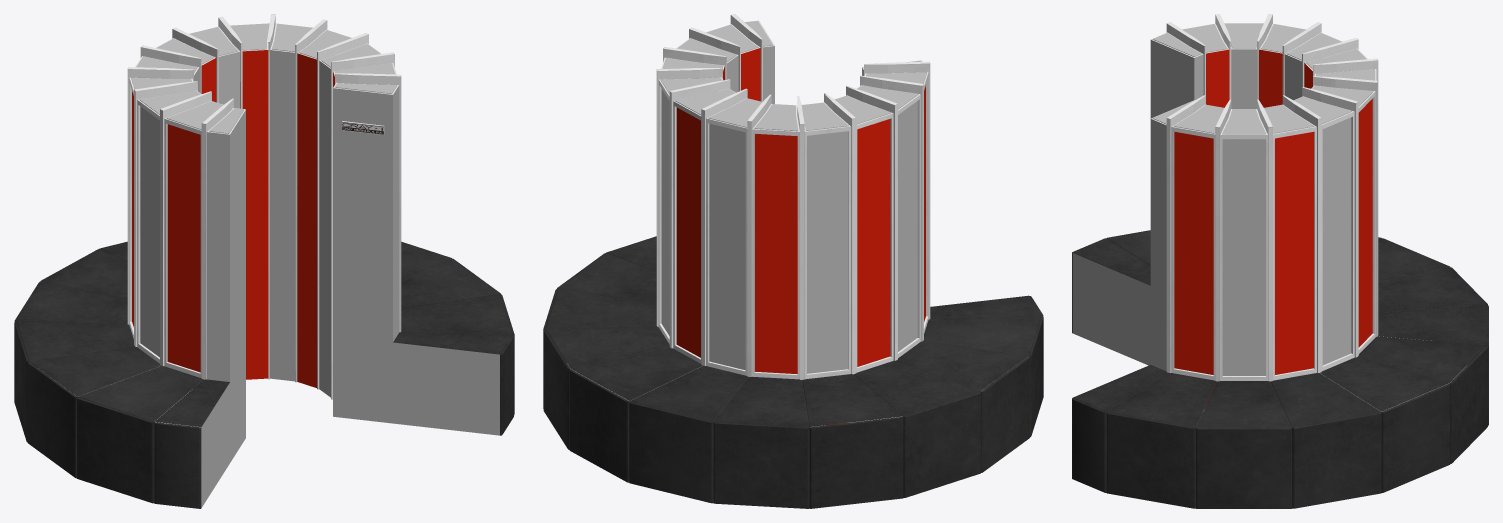
The model's file is cray1.fbx.
3 views of the same model, side by side, from view 1: azimuth 30°, elevation 25°; view 2: azimuth 150°, elevation 25°; view 3: azimuth 270°, elevation 25° (orthographic).
Parts seen in each view (by area): view 1: Cray_1.005; view 2: Cray_1.005; view 3: Cray_1.005.
Part boxes in pixels (x1,y1,x2,y2): Cray_1.005: (14, 14, 514, 508); Cray_1.005: (543, 14, 1043, 508); Cray_1.005: (1072, 14, 1488, 508).
Bounding box in the file's own units: 262 × 198 × 223.
